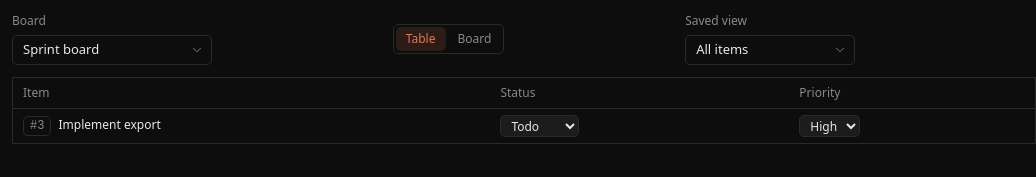
Test: PM boards UI › BOARD view groups items under status columns
Expected: the text "#3 Implement export" is shown, top-left (12, 108), bottom-right (490, 144)
Step 1. Click the radio button labelled "Board" → (474, 38), box top-left (448, 26), bottom-right (501, 50)
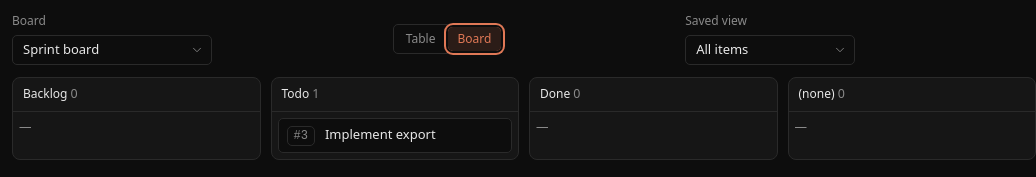
Now the element named "Todo column" shows "Implement export", box top-left (325, 125), bottom-right (436, 143)
Now the element named "Backlog column" shows "0", box top-left (71, 85), bottom-right (78, 102)
